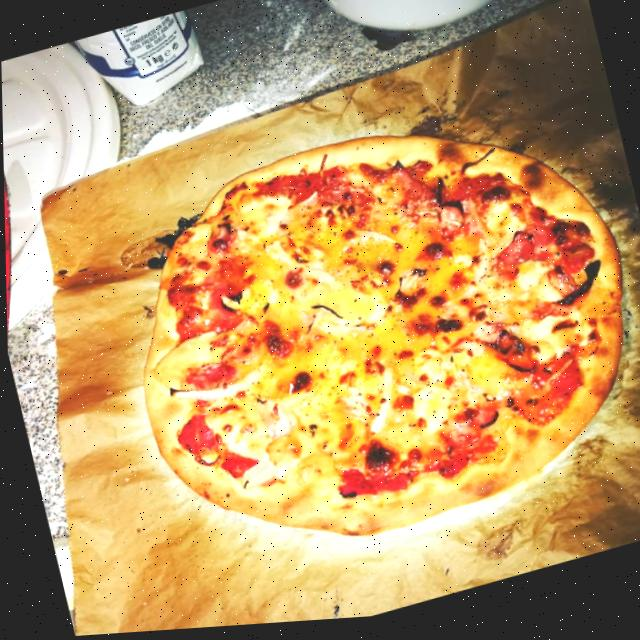pizza: (93, 74, 640, 596)
